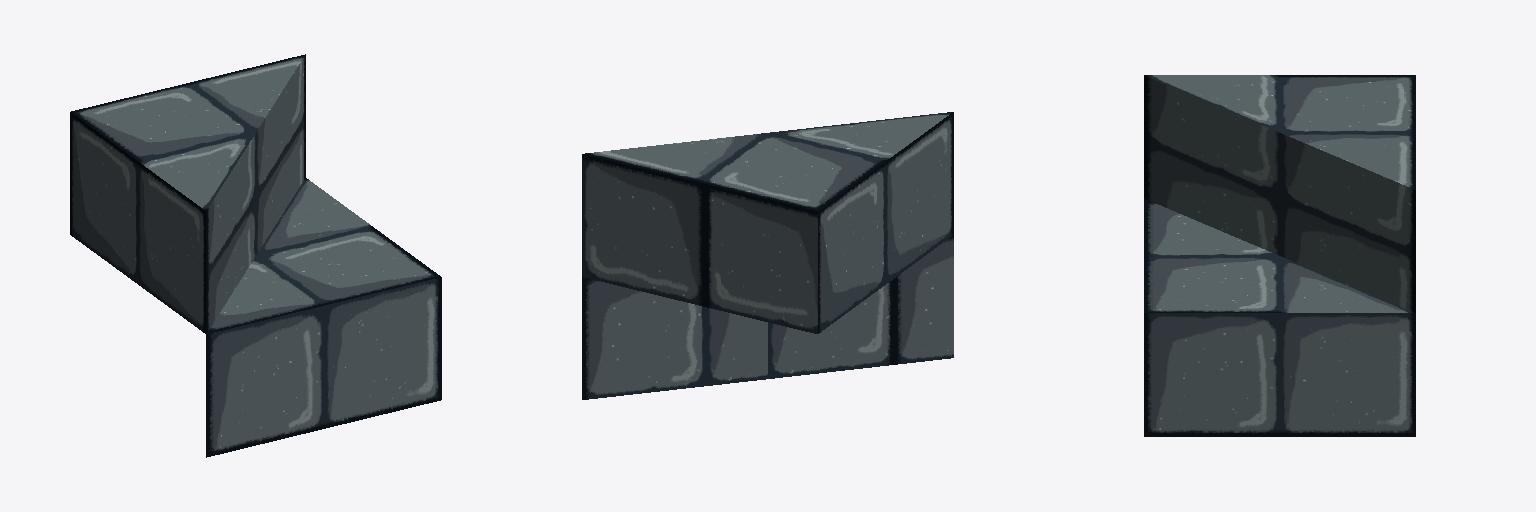
3 views of the same model, side by side, from view 1: azimuth 30°, elevation 25°; view 2: azimuth 150°, elevation 25°; view 3: azimuth 270°, elevation 25° (orthographic).
Parts seen in each view (by area): view 1: 10_stone; view 2: 10_stone; view 3: 10_stone.
Boxes of the visible parts, <box> form: 10_stone: <box>70,54,441,457</box>; 10_stone: <box>582,112,953,399</box>; 10_stone: <box>1144,75,1415,436</box>.
Size of the model in its own units: 1 by 1 by 1.
1 materials, 1 textured.